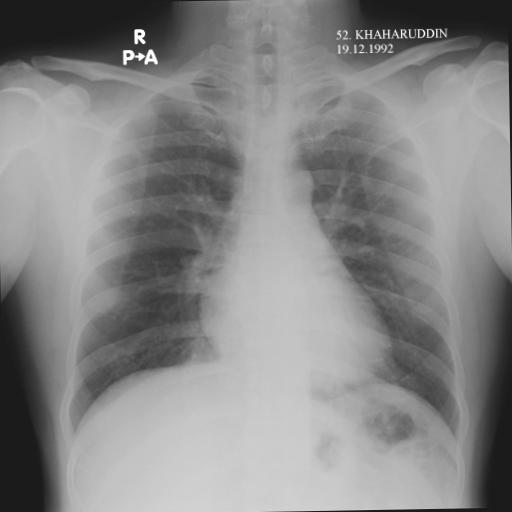normal: (50, 32, 468, 473)
